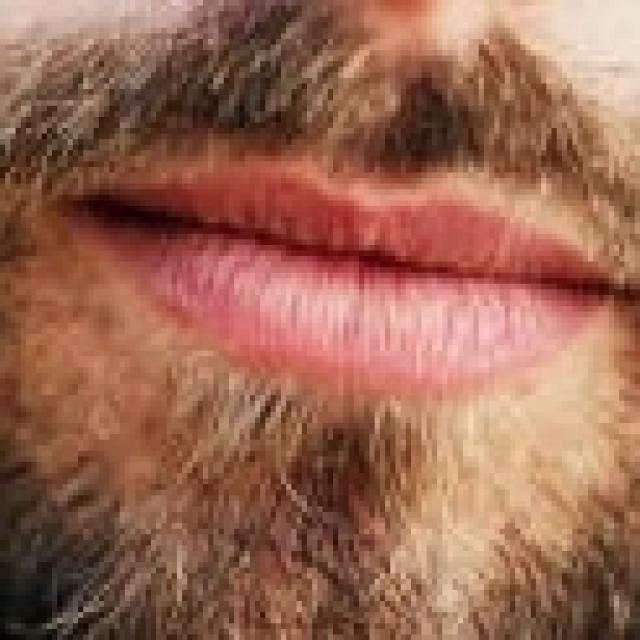closed-mouth: (52, 150, 635, 407)
